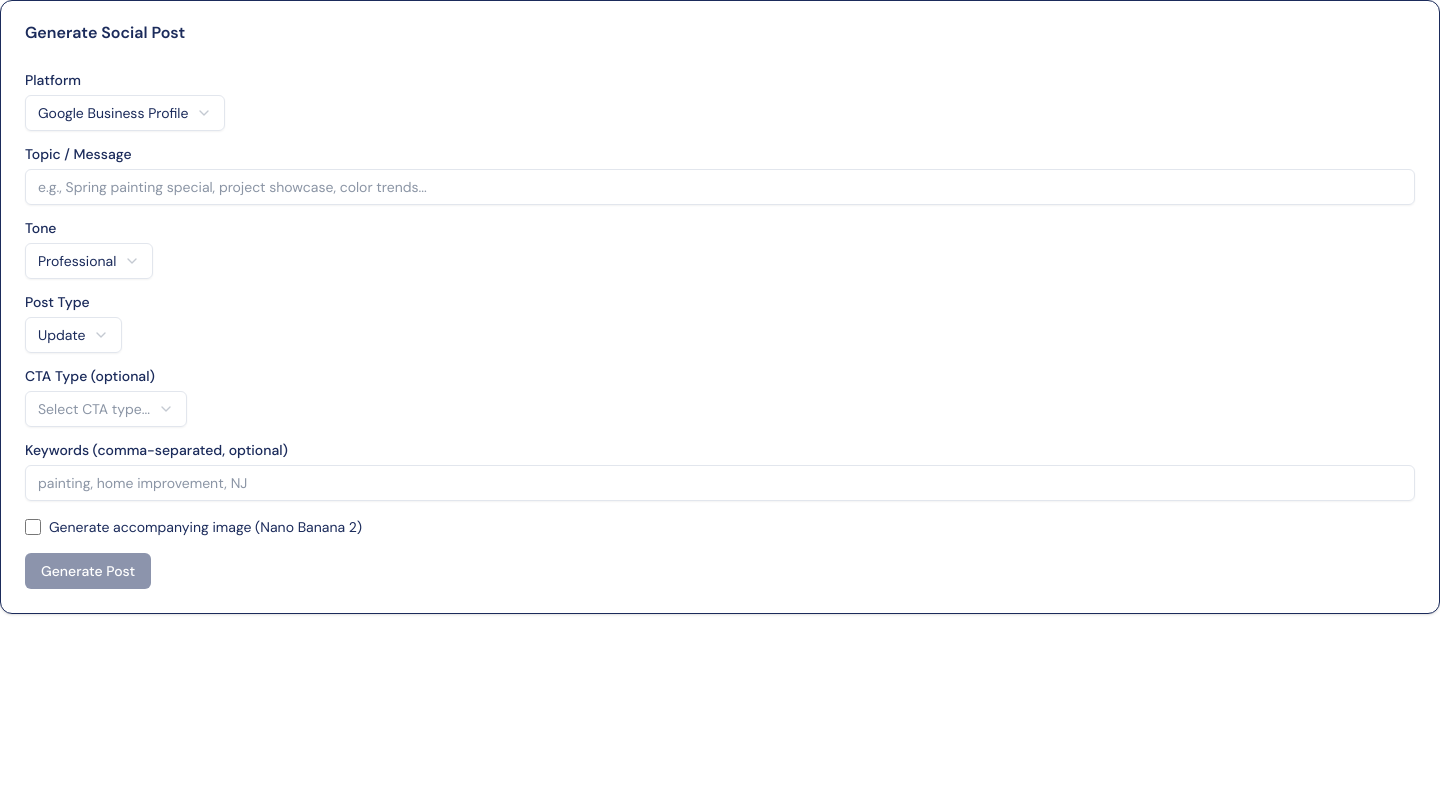
Scenario: SocialGenerateForm › shows success message after successful generation
In the field labelled "Topic / Message": (720, 187) [25,169,1415,205], type "Spring painting special"
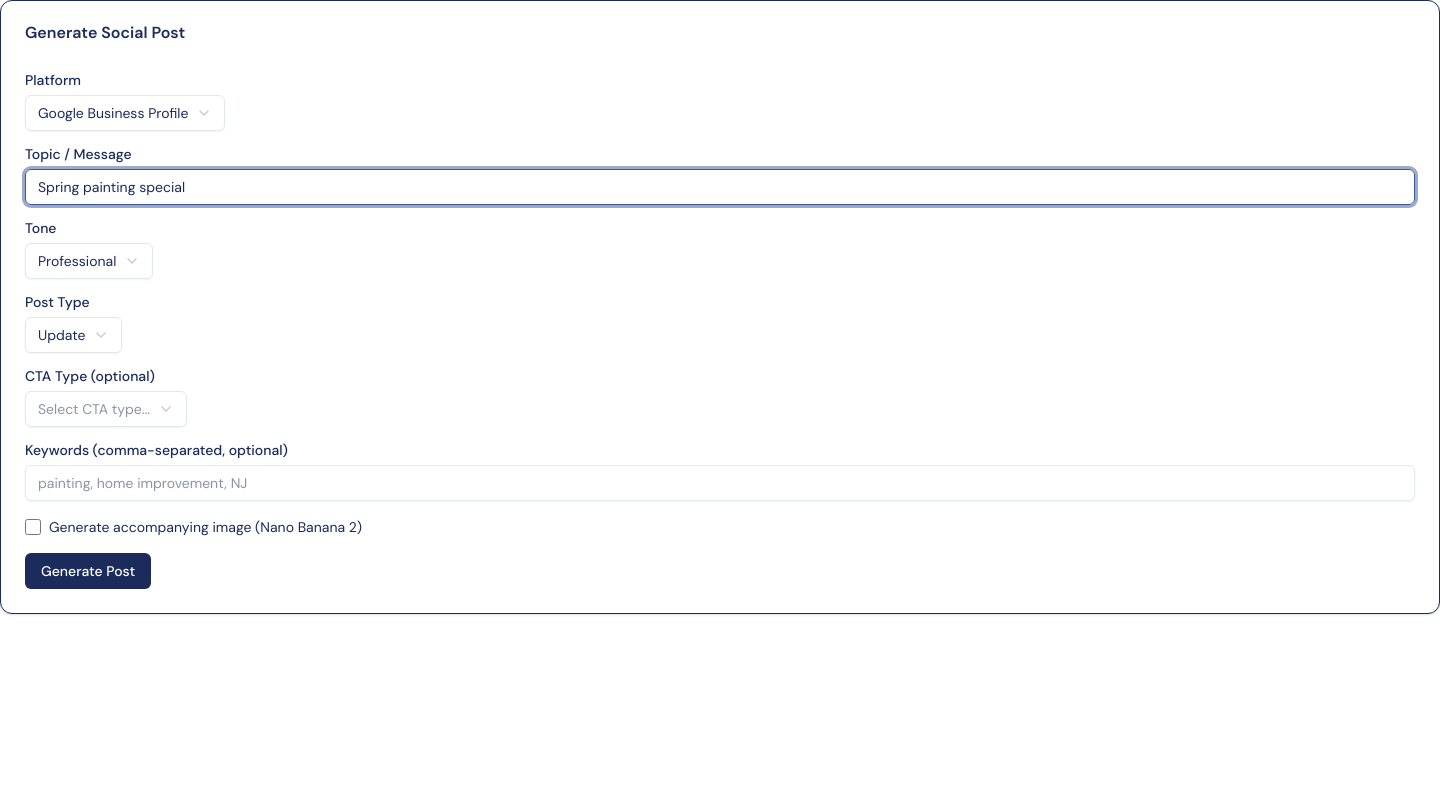
Click the button "Generate Post": (88, 571) [25,553,151,589]
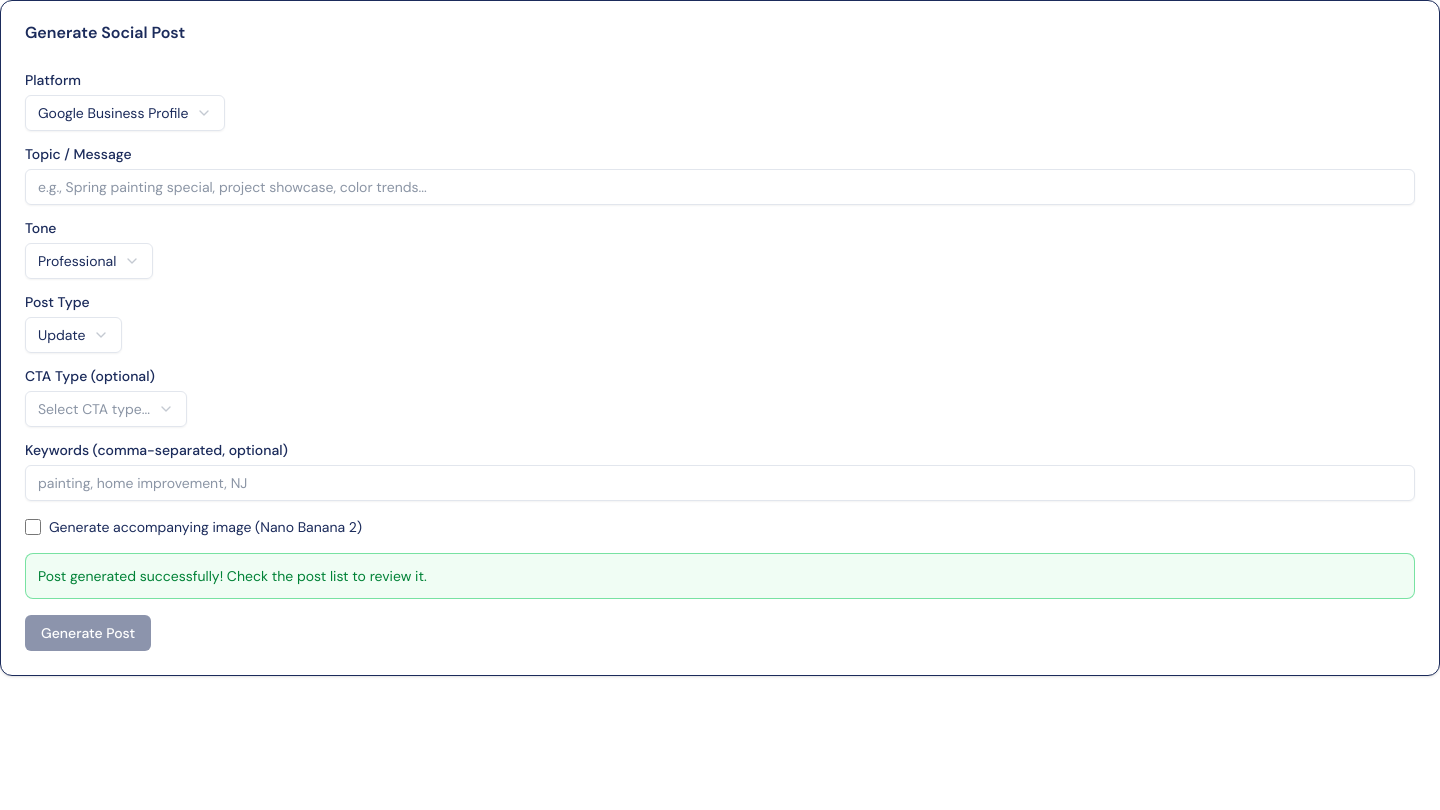
Result: the text "Post generated successfully" is shown at [38,567,427,585]
